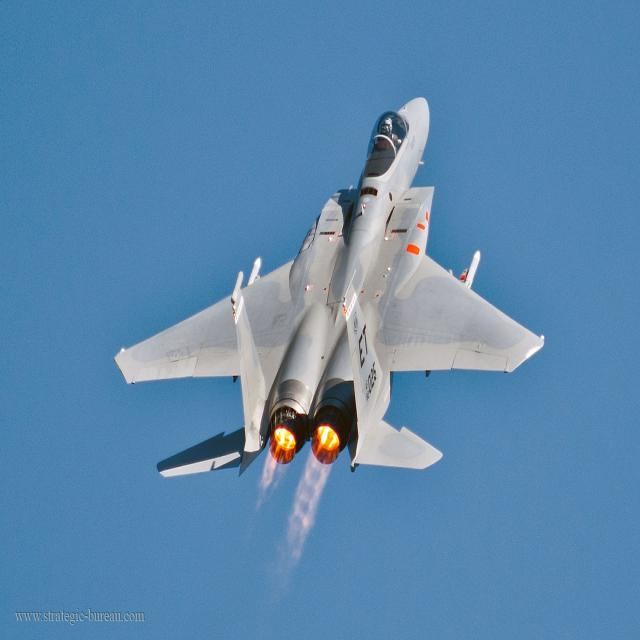F15: (91, 62, 571, 561)
